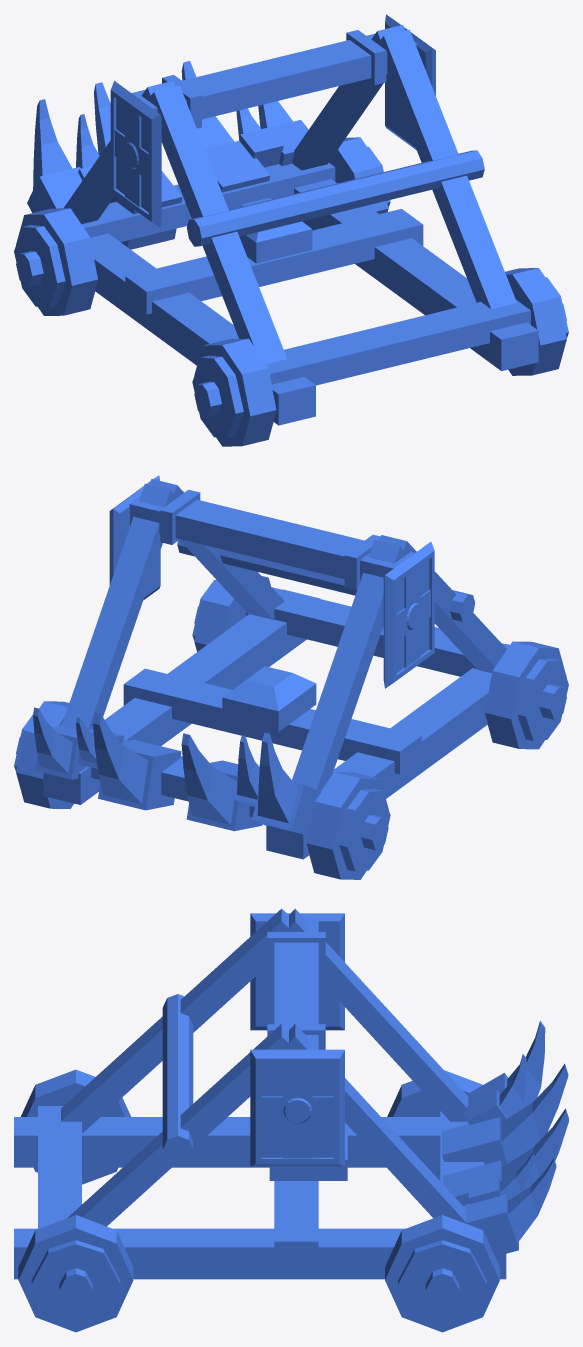
File: Catapult_Variant2.fbx
3 views of the same model, one above another, from view 1: azimuth 30°, elevation 25°; view 2: azimuth 150°, elevation 25°; view 3: azimuth 270°, elevation 25° (orthographic). The views are drawn at different scales.
Parts seen in each view (by area): view 1: Catapult_Variant2; view 2: Catapult_Variant2; view 3: Catapult_Variant2.
Part boxes in pixels (box(x1,y1,x2,y2)): Catapult_Variant2: box(14, 14, 568, 446); Catapult_Variant2: box(14, 475, 568, 879); Catapult_Variant2: box(14, 908, 568, 1332).
Bounding box in the file's own units: 182 × 134 × 239.
